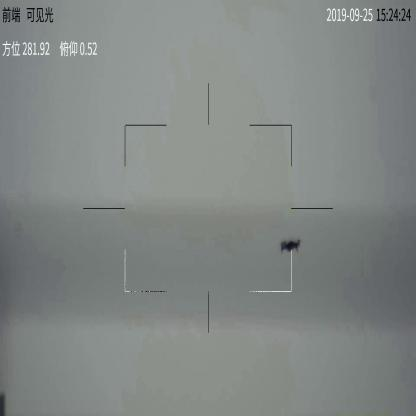uav: (279, 240, 302, 256)
